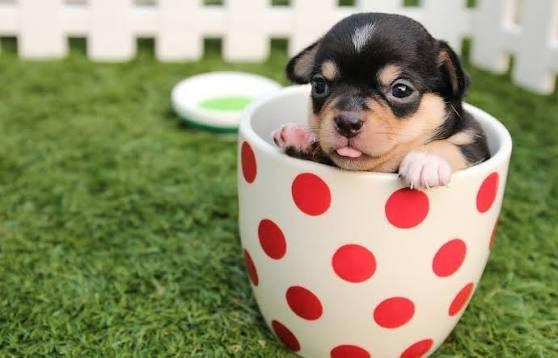puppy-dog: (273, 12, 490, 191)
